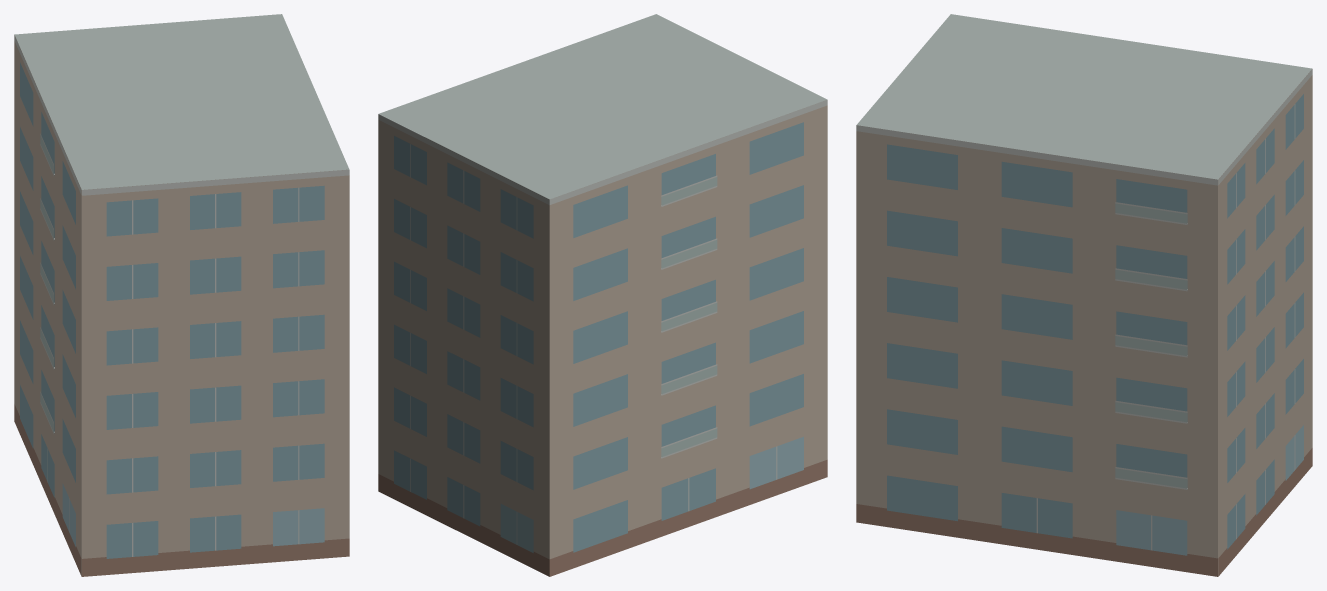
The model's file is survey-upis-32848734.glb.
The picture shows the model from 3 angles, left to right: view 1: azimuth 30°, elevation 25°; view 2: azimuth 150°, elevation 25°; view 3: azimuth 270°, elevation 25°; orthographic projection. The views are drawn at different scales.
Visible parts, largest first — view 1: survey-upis-32848734.tmp; view 2: survey-upis-32848734.tmp; view 3: survey-upis-32848734.tmp.
Part boxes in pixels (bbox=[...]): survey-upis-32848734.tmp: bbox=[14, 14, 349, 576]; survey-upis-32848734.tmp: bbox=[378, 14, 827, 576]; survey-upis-32848734.tmp: bbox=[856, 14, 1312, 576].
Bounding box in the file's own units: 14.36 × 16.05 × 16.71.
